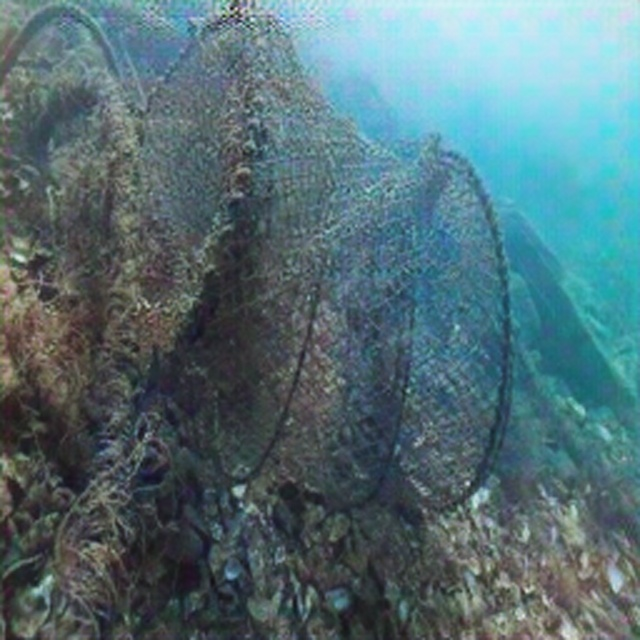mine: (131, 7, 513, 502)
